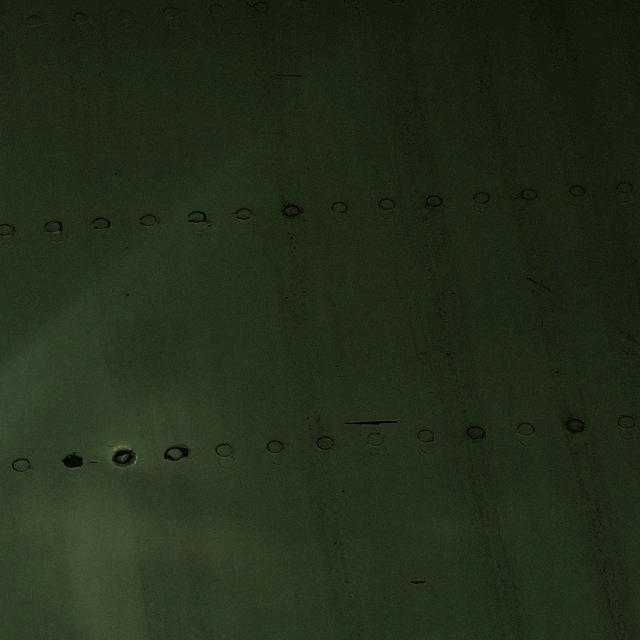crack: (337, 412, 397, 427), (403, 578, 429, 587)
